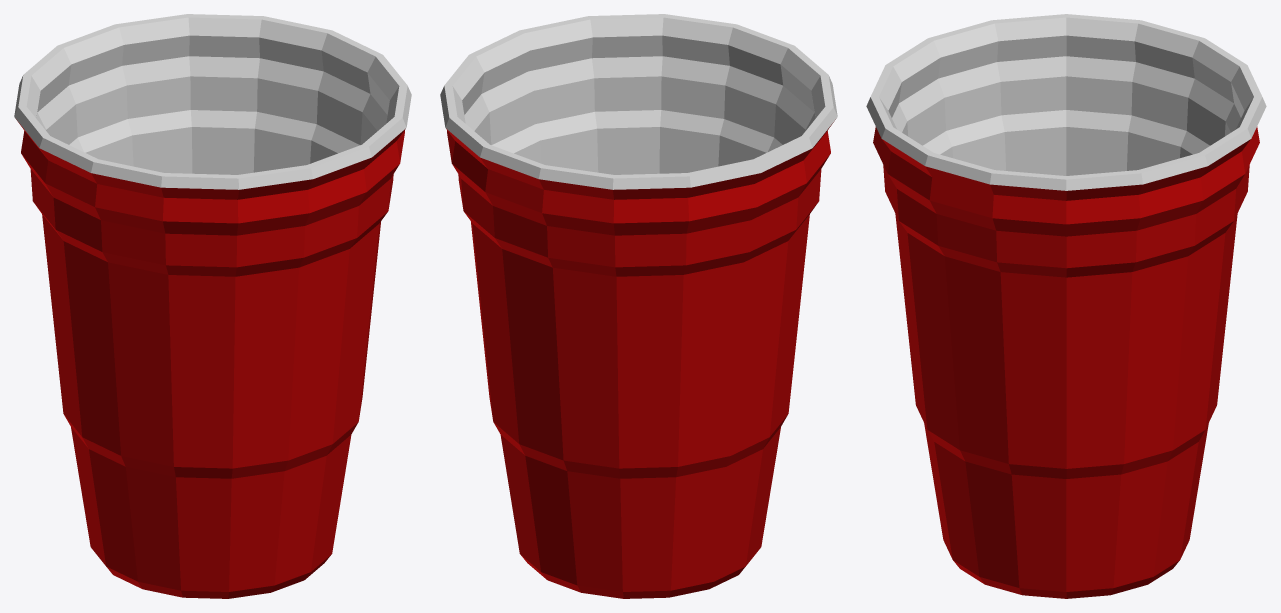
File: Cup.obj
3 renders of one model, left to right at view 1: azimuth 30°, elevation 25°; view 2: azimuth 150°, elevation 25°; view 3: azimuth 270°, elevation 25°, orthographic.
Parts seen in each view (by area): view 1: Cup_Cylinder; view 2: Cup_Cylinder; view 3: Cup_Cylinder.
Boxes of the visible parts, box(x1,y1,x2,y2) form: Cup_Cylinder: box(14, 14, 411, 598); Cup_Cylinder: box(440, 14, 837, 598); Cup_Cylinder: box(866, 14, 1266, 598).
Size of the model in its own units: 0.096 by 0.12 by 0.096.
